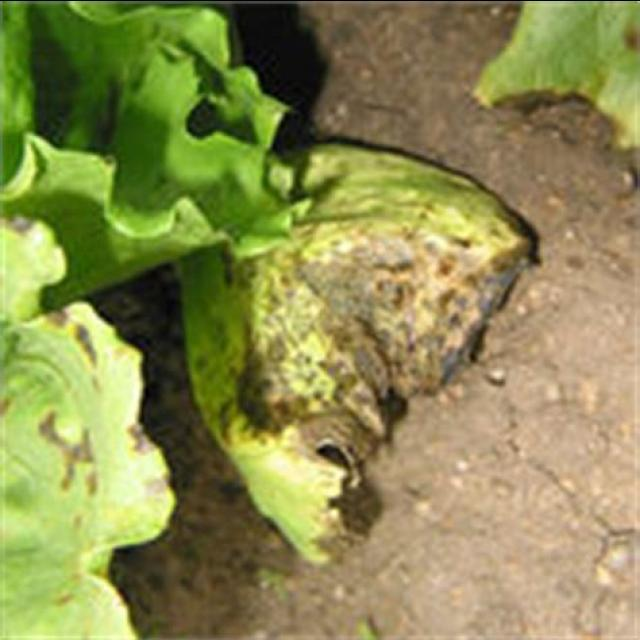Baby: (227, 209, 442, 377)
